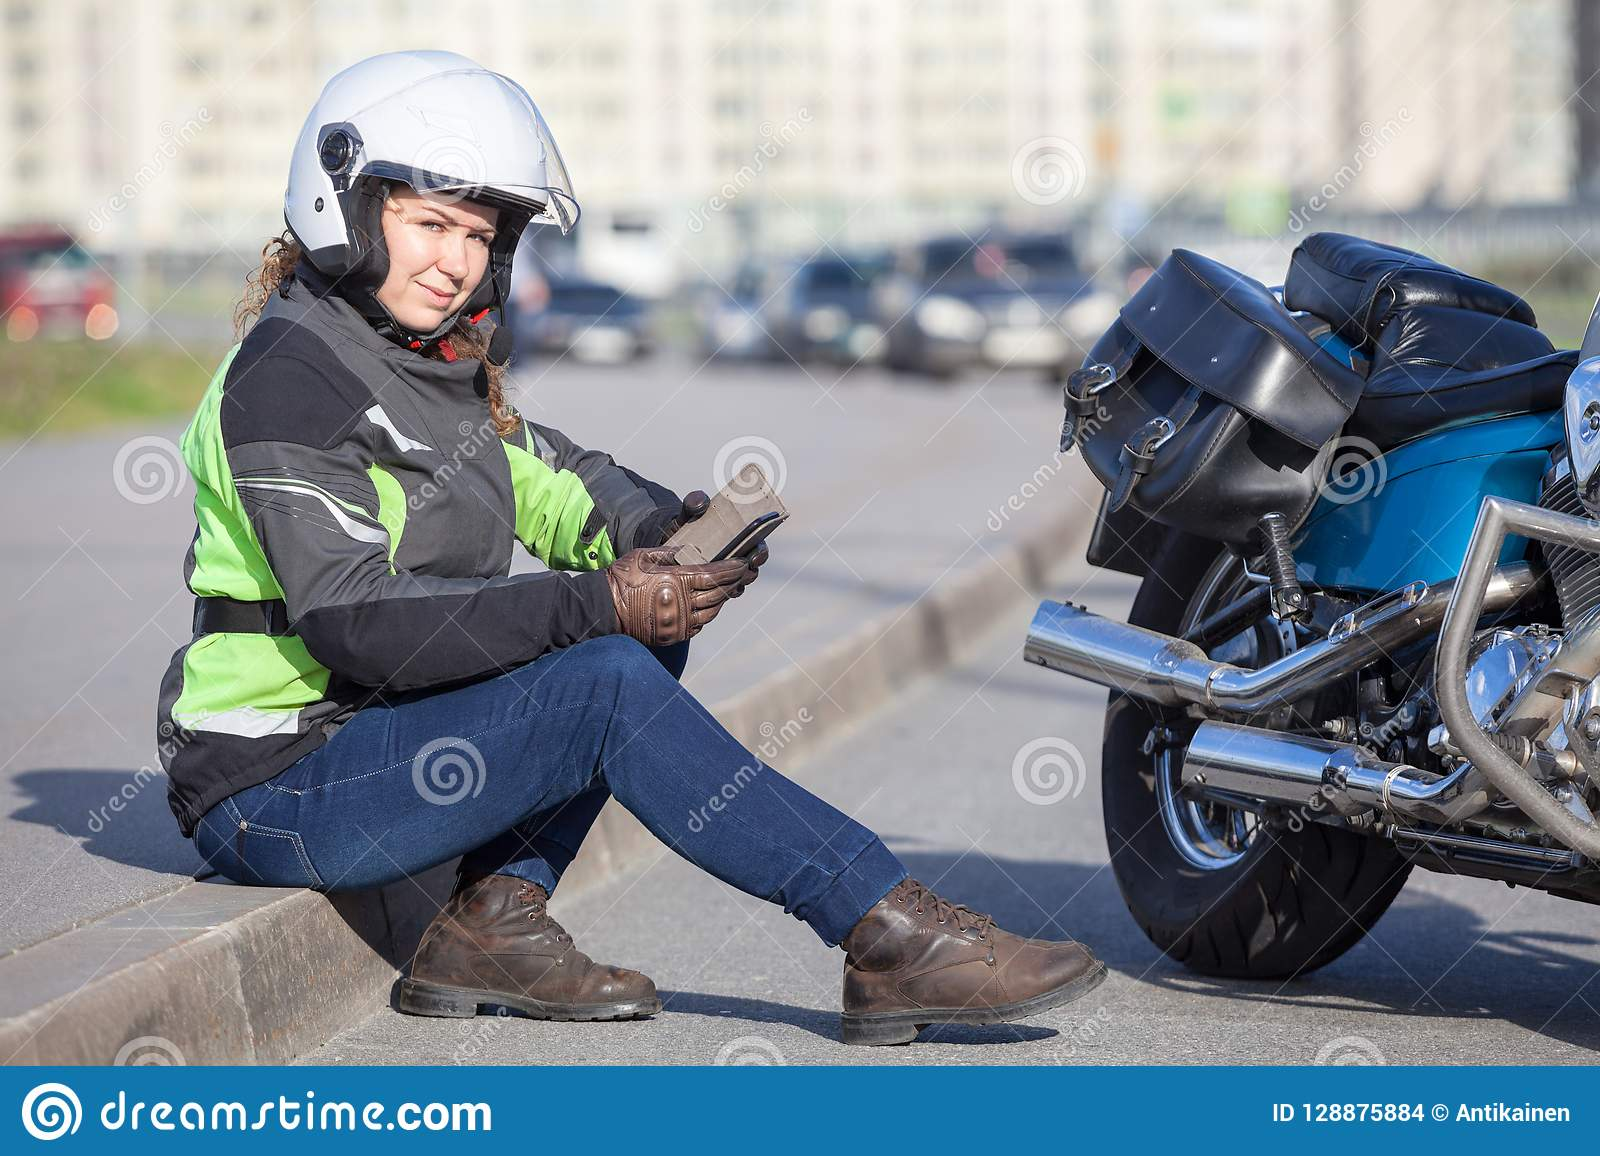helmet: (276, 48, 550, 298)
